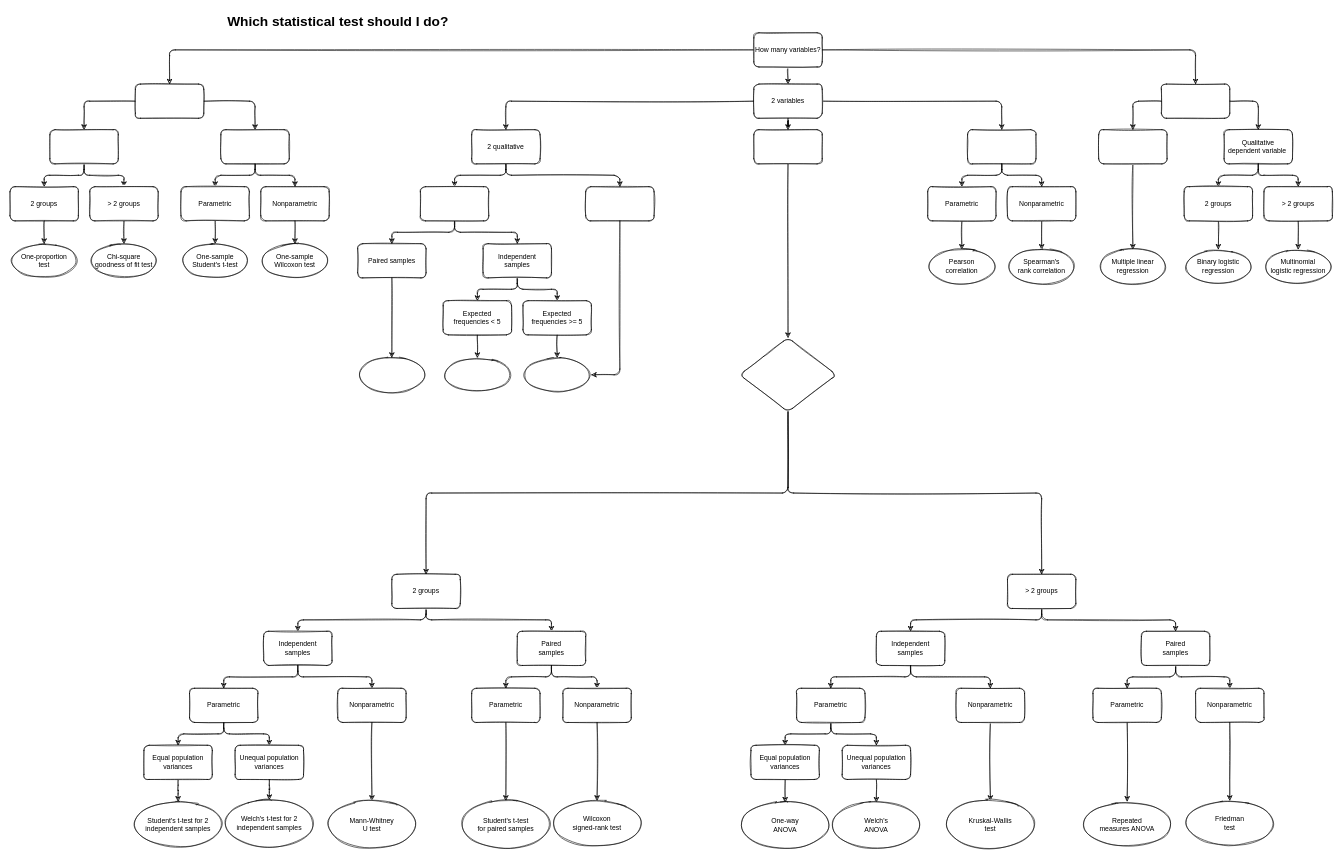
The diagram is 1342 pixels wide and 858 high, and some of its shapes have lost their labels. The centre of each missing label's shape, as x and y in pixels:
"1 quantitative & 1 qualitative" goes at pixel 787 146.
"1 variable" goes at pixel 169 101.
"2 groups for each variable" goes at pixel 454 203.
"2 quantitative" goes at pixel 1001 146.
"> 2 groups for at least one variable" goes at pixel 619 203.
"> 2 variables" goes at pixel 1195 101.
"Chi-square test of independence" goes at pixel 556 374.
"Fisher's exact test" goes at pixel 477 374.
"McNemar's test" goes at pixel 391 374.
"Number of groups/samples to compare?" goes at pixel 787 374.
"Qualitative" goes at pixel 83 146.
"Quantitative" goes at pixel 254 146.
"Quantitative dependent variable" goes at pixel 1132 146.
